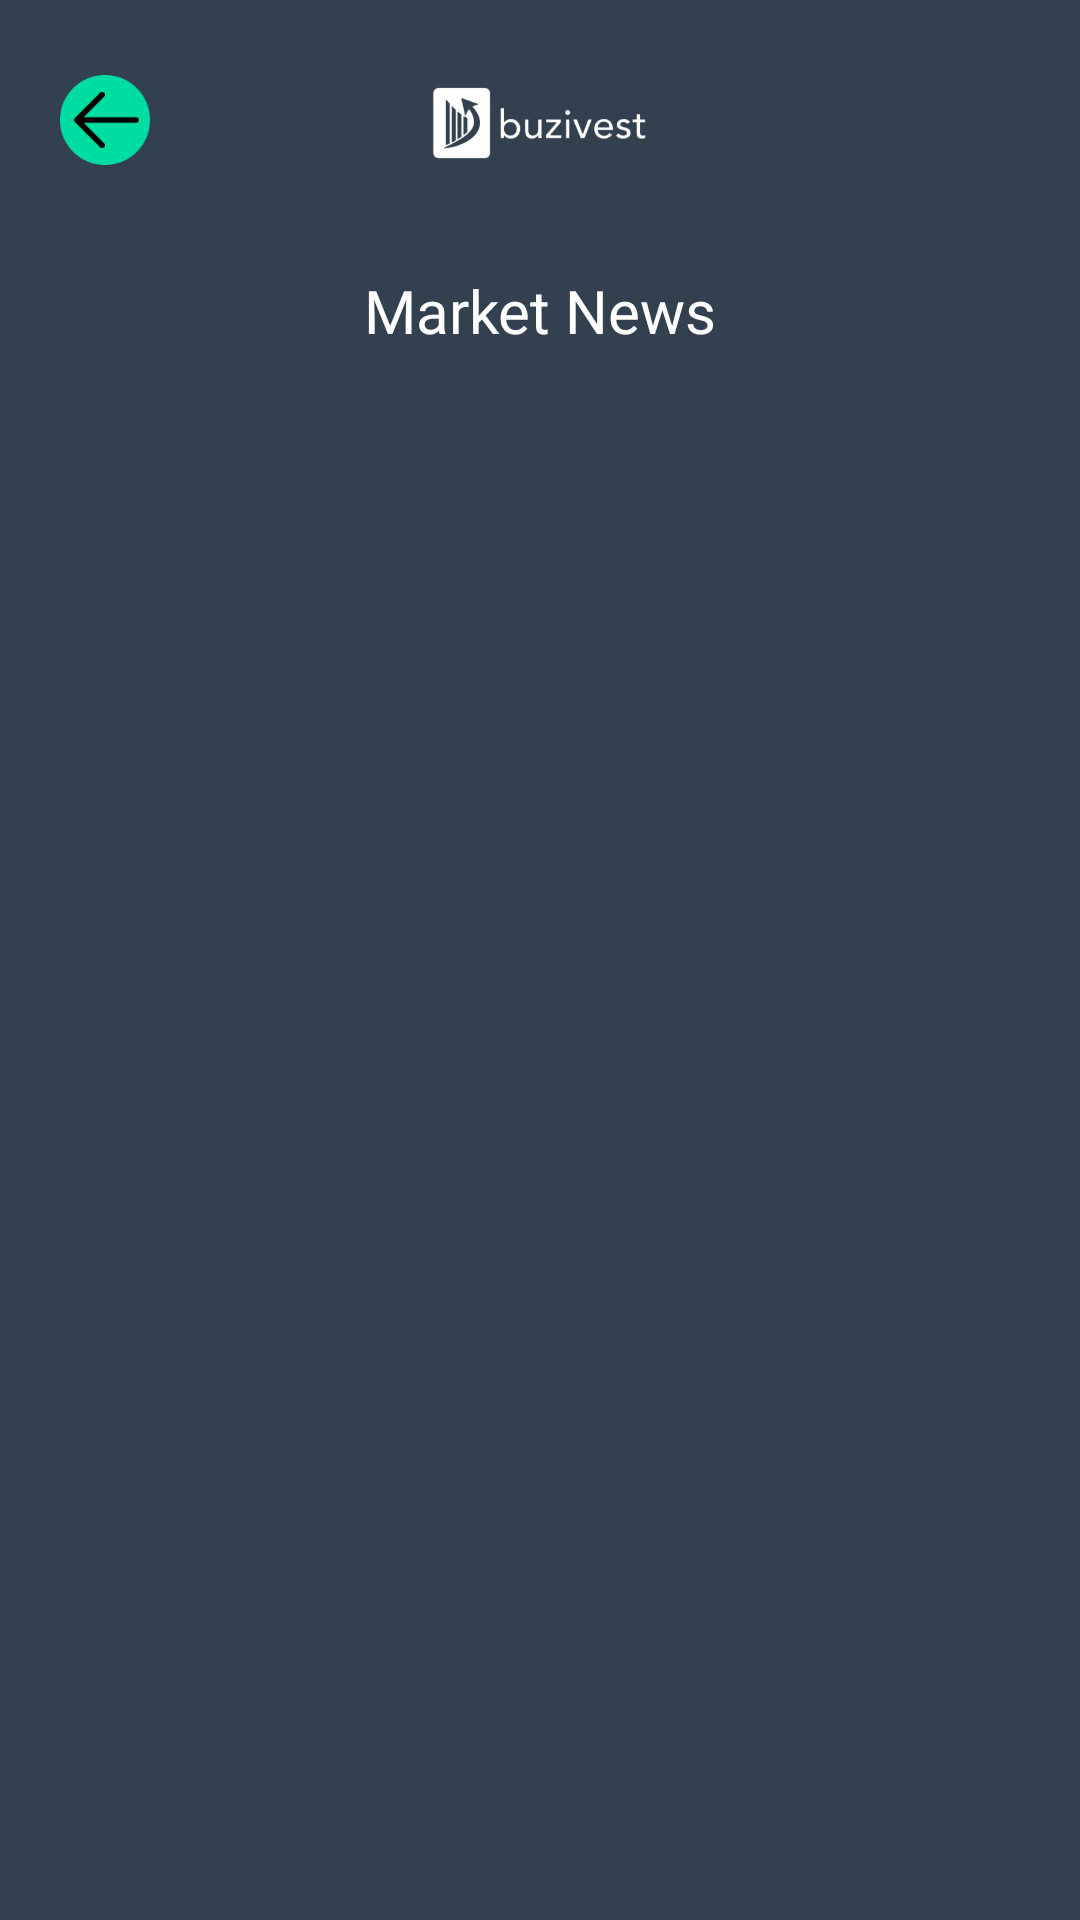

Point at icon controls on the screen. Image size 1080 × 1920, points as (x=x, y=y).
detail back: (x=105, y=120)
